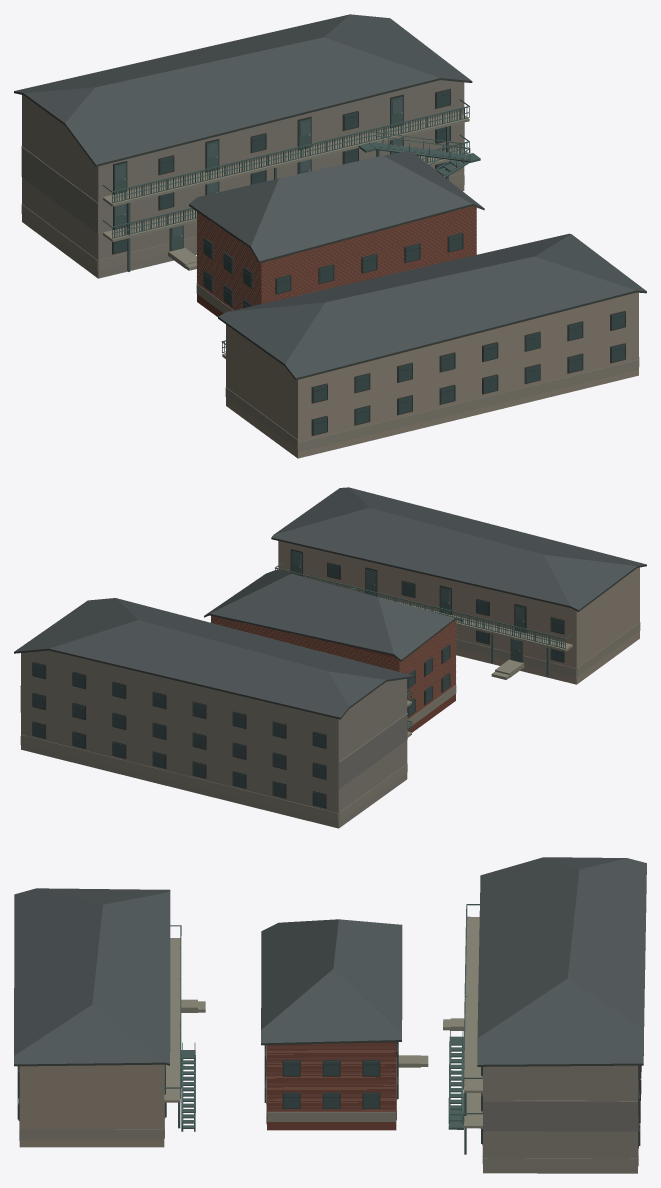
Rendered from site.glb.
The picture shows the model from 3 angles, top to bottom: view 1: azimuth 30°, elevation 25°; view 2: azimuth 150°, elevation 25°; view 3: azimuth 270°, elevation 25°; orthographic projection. The views are drawn at different scales.
Visible parts, largest first — view 1: roof-9feed235, roof-eab27ea2, hilyard-apartments-971; view 2: roof-9feed235, roof-eab27ea2, hilyard-apartments-971; view 3: roof-9feed235, roof-eab27ea2, hilyard-apartments-971.
Boxes of the visible parts, x1,y1,x2,y2 form: roof-9feed235: (14, 14, 480, 278); roof-eab27ea2: (218, 233, 646, 458); hilyard-apartments-971: (189, 151, 484, 316); roof-9feed235: (14, 598, 414, 828); roof-eab27ea2: (271, 487, 646, 684); hilyard-apartments-971: (204, 569, 462, 732); roof-9feed235: (448, 857, 646, 1173); roof-eab27ea2: (14, 888, 197, 1147); hilyard-apartments-971: (261, 919, 420, 1130).
Size of the model in its own units: 31.87 by 11.2 by 42.69.
